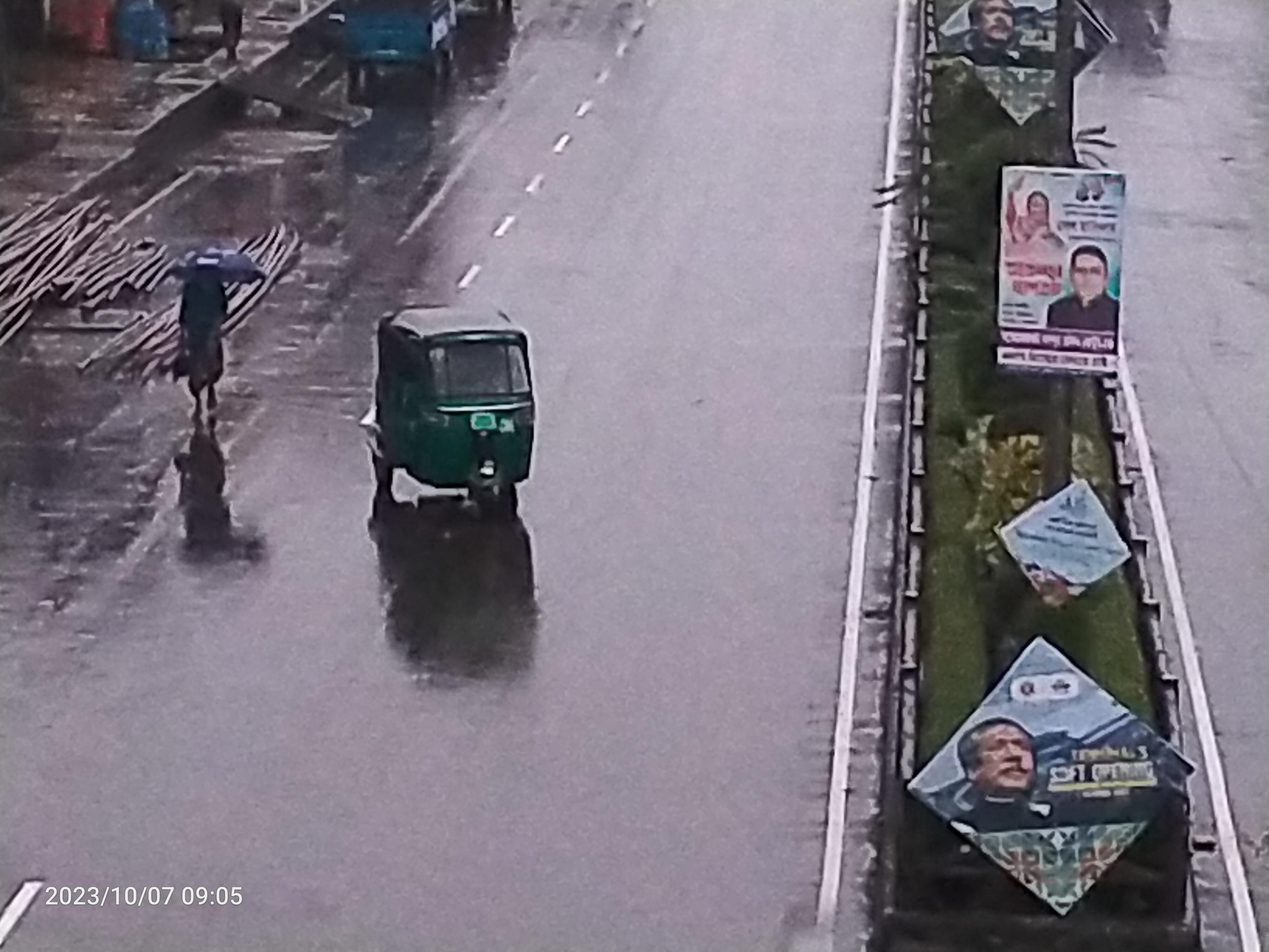Truck: (325, 0, 465, 145)
